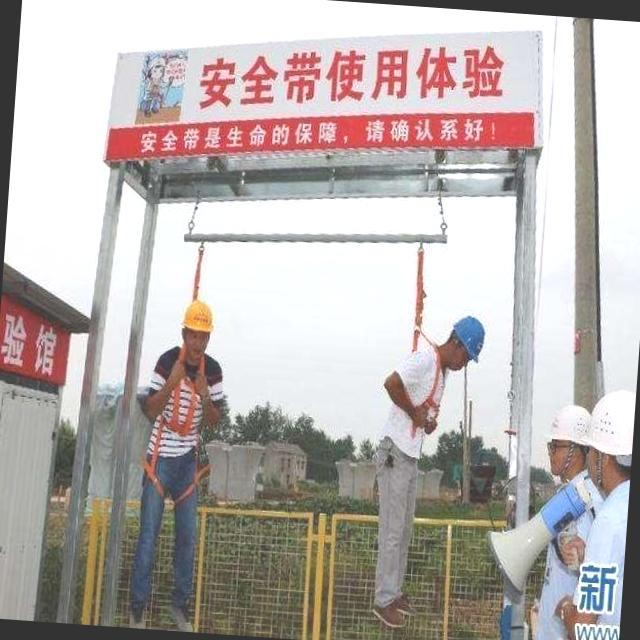helmet: (444, 312, 492, 366), (174, 297, 220, 338)
no-vest: (380, 341, 462, 479), (144, 340, 222, 478)
